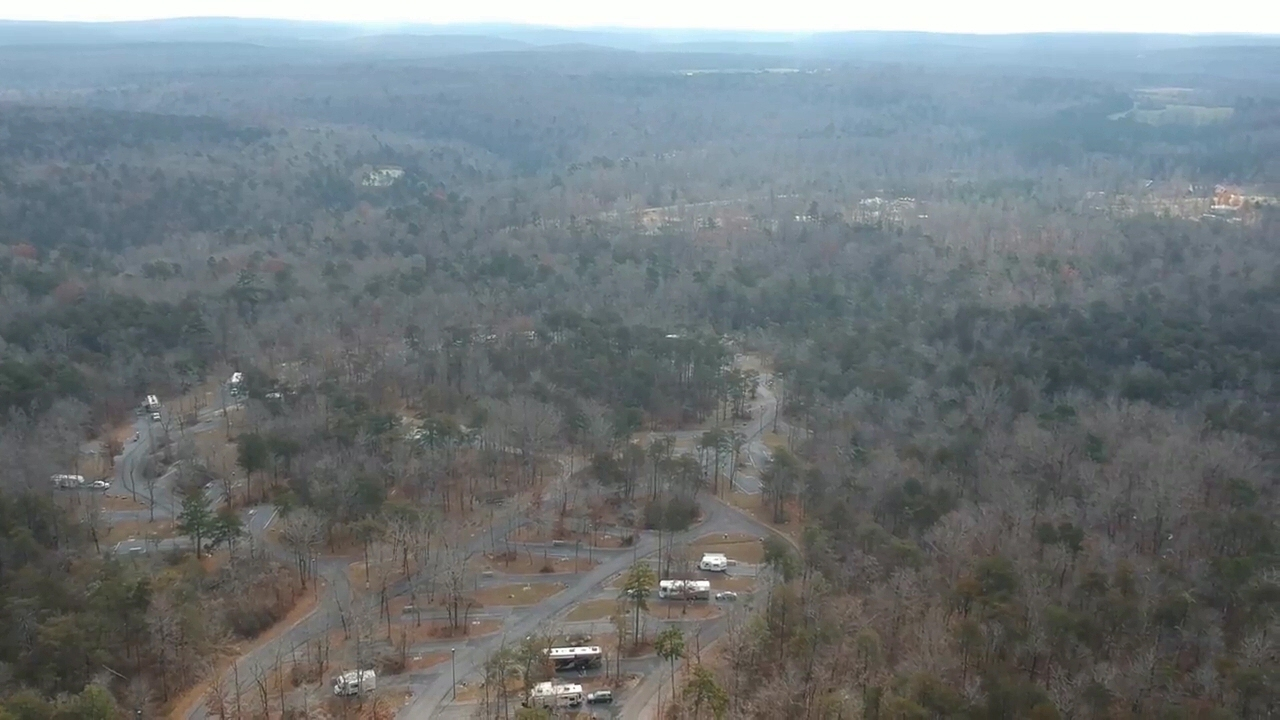araba: (585, 685, 616, 706), (715, 589, 742, 603), (88, 479, 111, 489), (227, 387, 241, 398), (150, 410, 163, 421)
otobus: (538, 641, 609, 674), (525, 680, 583, 714), (659, 577, 711, 601)
